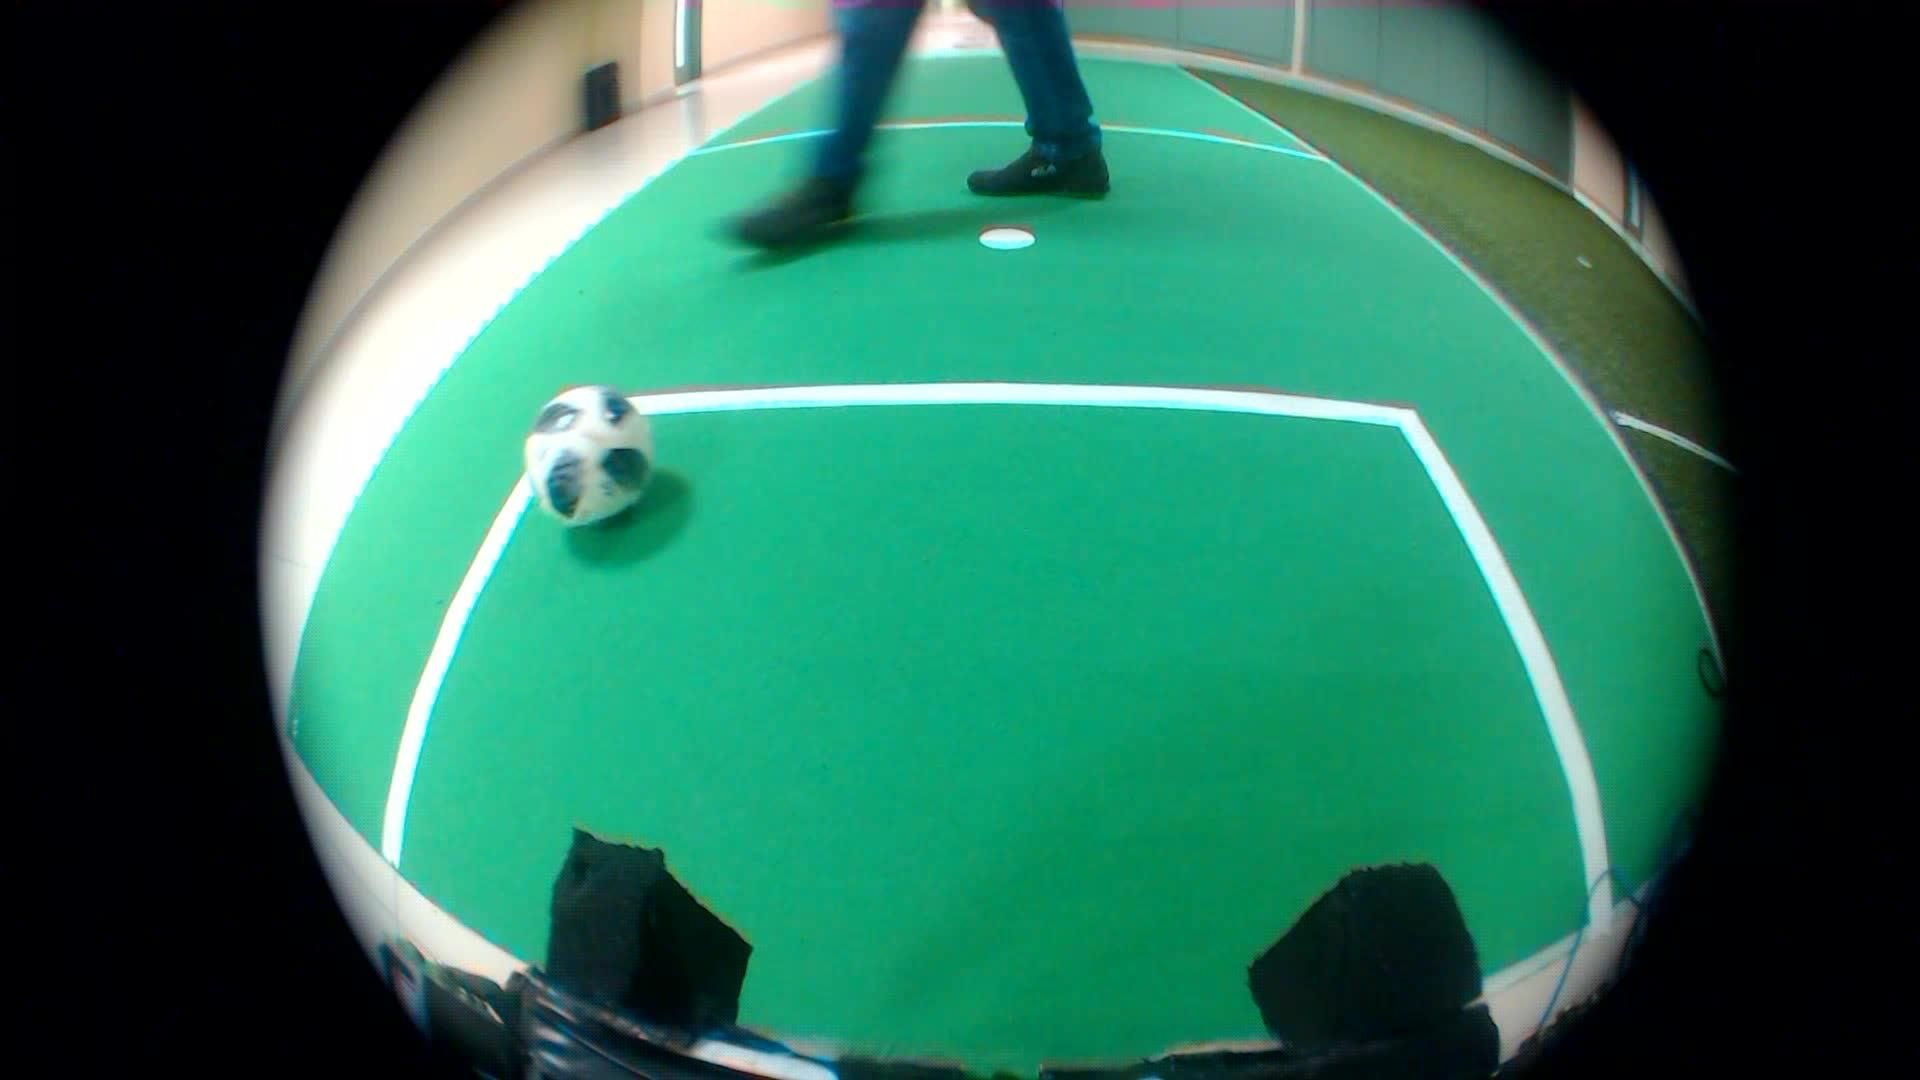ball: (509, 384, 670, 549)
